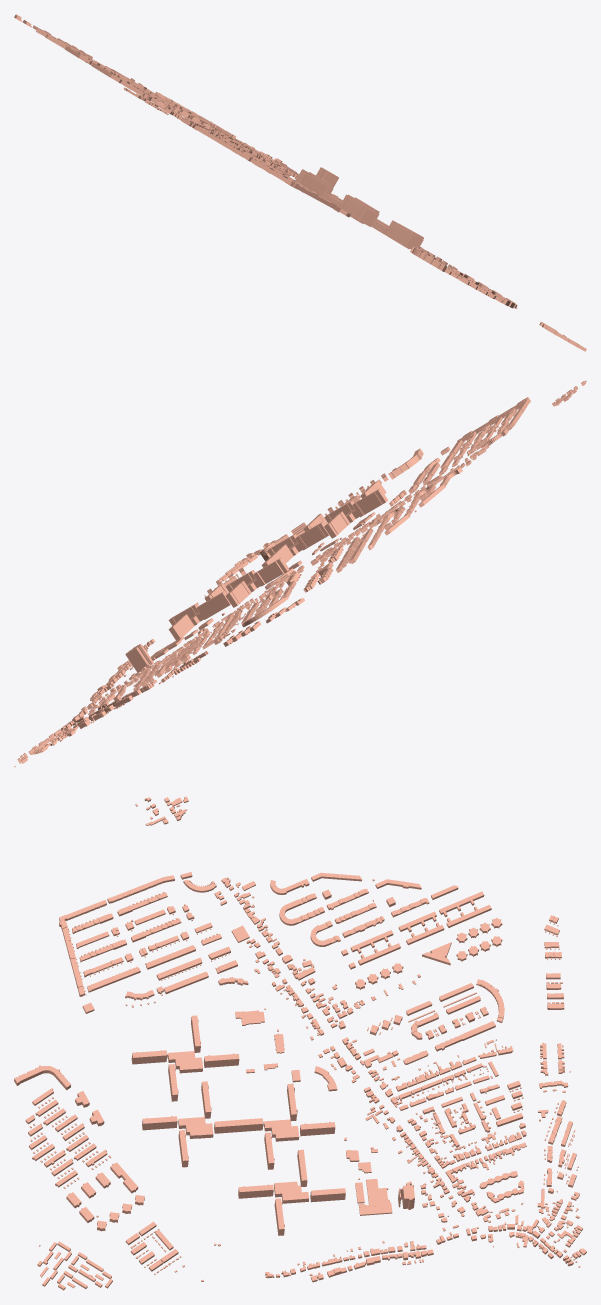
3 renders of one model, top to bottom at view 1: azimuth 30°, elevation 25°; view 2: azimuth 150°, elevation 25°; view 3: azimuth 270°, elevation 25°, orthographic. The views are drawn at different scales.
Bounding box in the file's own units: 982 × 741 × 1253.
